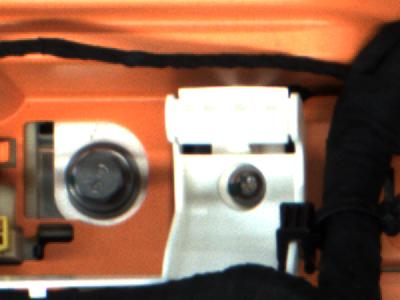nut_b: (62, 142, 143, 215)
